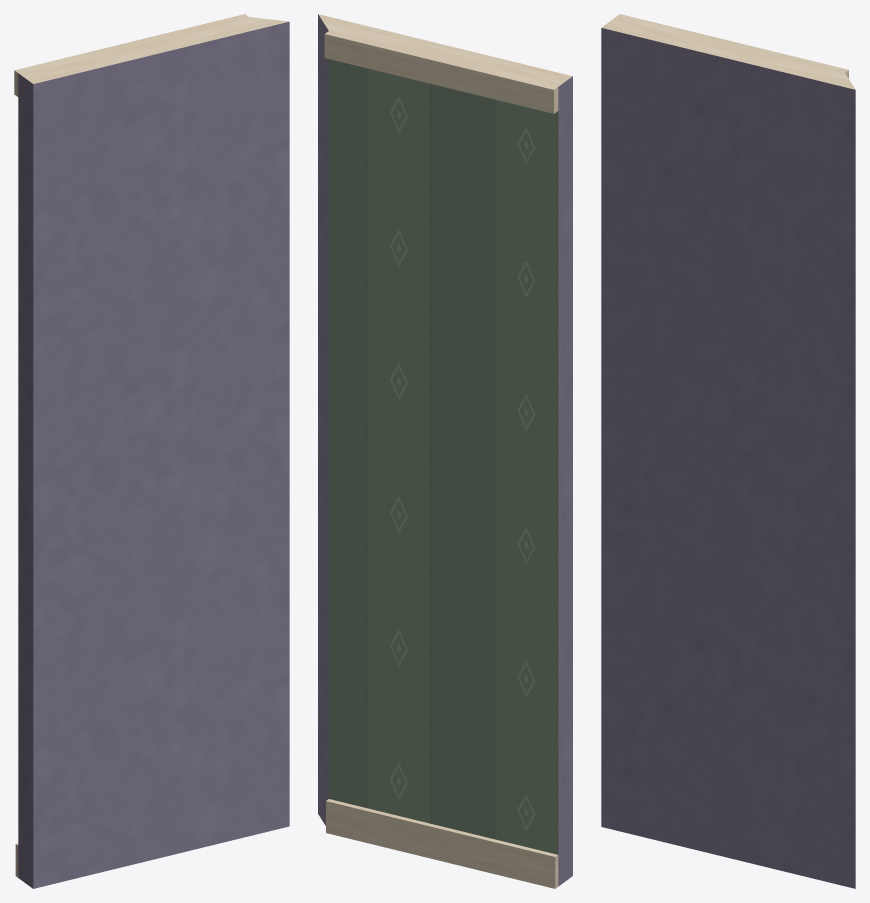
The model's file is SM_Wall_1x3_CornerR.fbx.
The picture shows the model from 3 angles, left to right: view 1: azimuth 30°, elevation 25°; view 2: azimuth 150°, elevation 25°; view 3: azimuth 330°, elevation 25°; orthographic projection.
Visible parts, largest first — view 1: SM_Wall_1x3_CornerR; view 2: SM_Wall_1x3_CornerR; view 3: SM_Wall_1x3_CornerR.
Boxes of the visible parts, box(x1,y1,x2,y2) form: SM_Wall_1x3_CornerR: box(14, 14, 289, 888); SM_Wall_1x3_CornerR: box(318, 14, 572, 888); SM_Wall_1x3_CornerR: box(601, 14, 855, 888).
Size of what is drawn, in the model's own units: 1 by 3 by 0.128.
3 materials, 3 textured.
